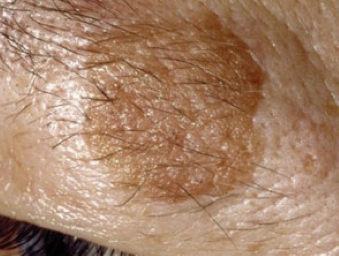seborrheic keratosis: (46, 19, 278, 206)
